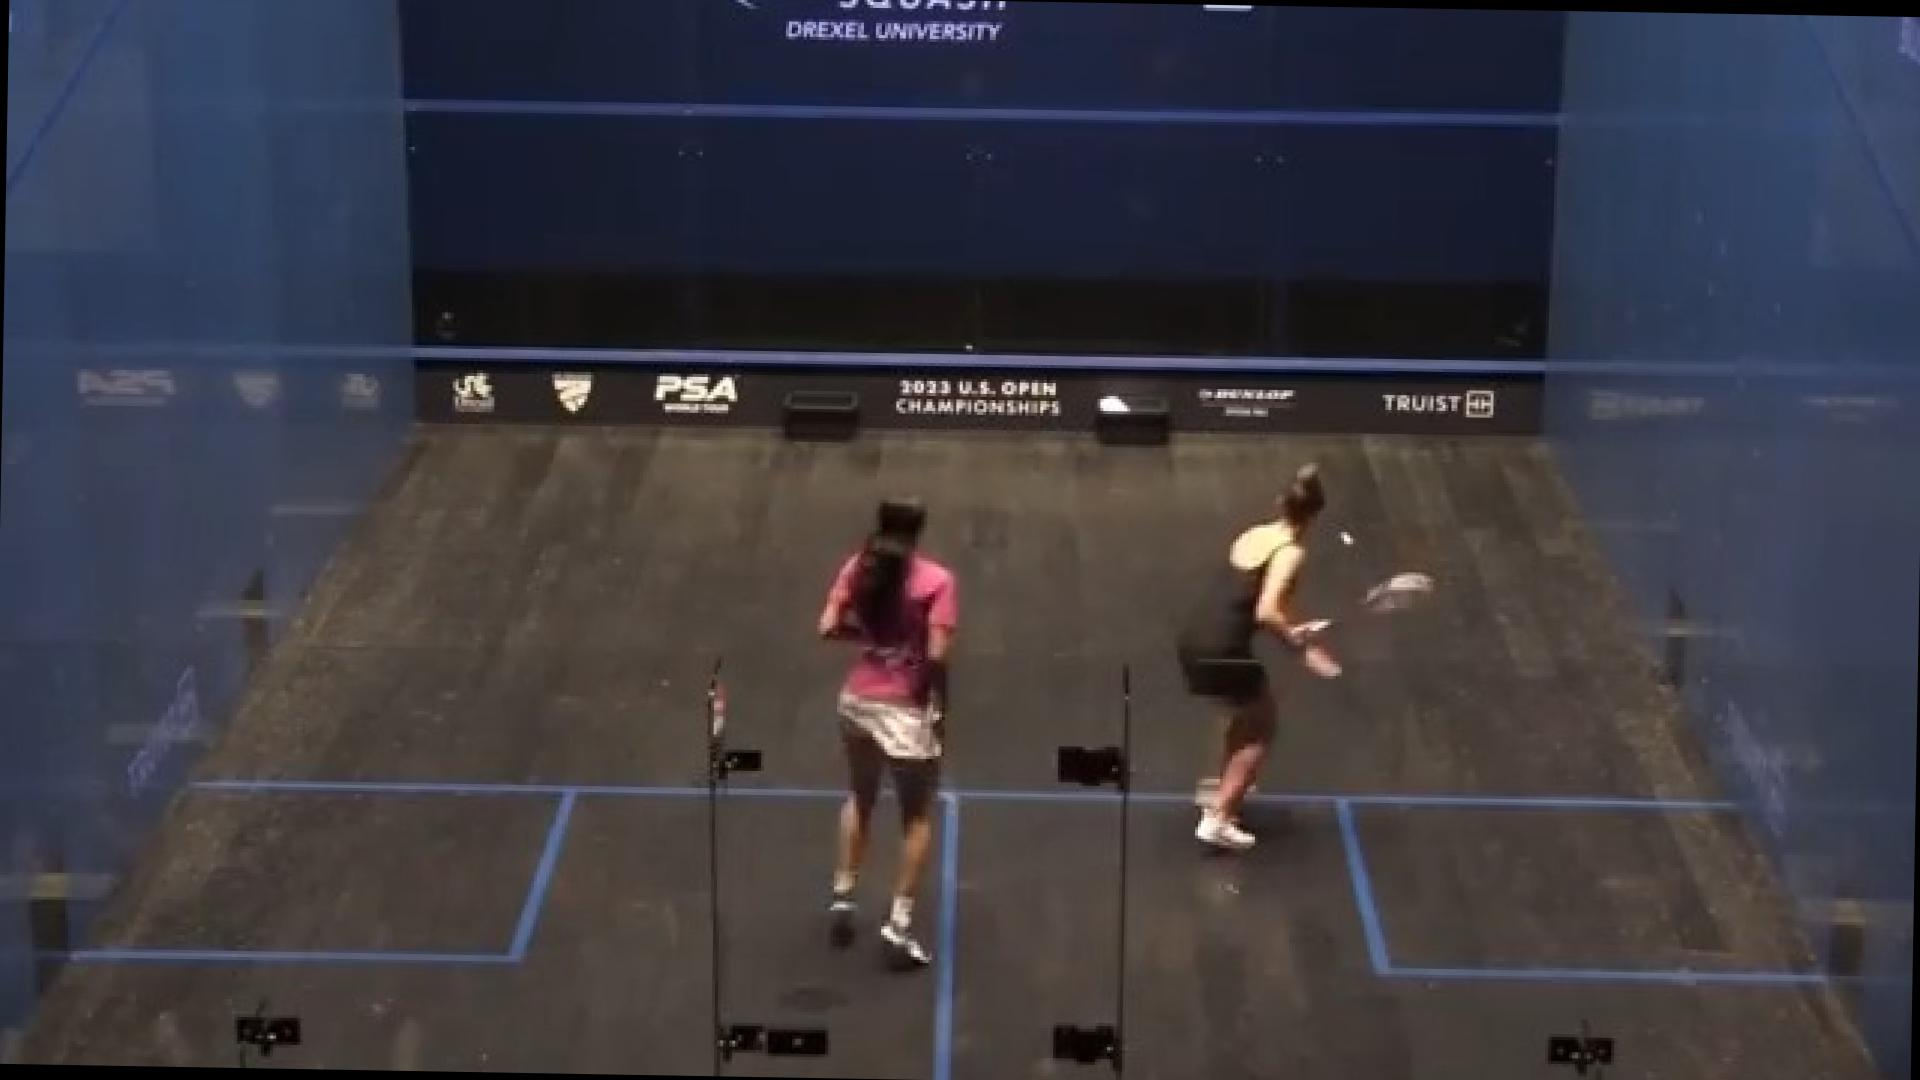Squash-Ball: (1331, 526, 1364, 555)
